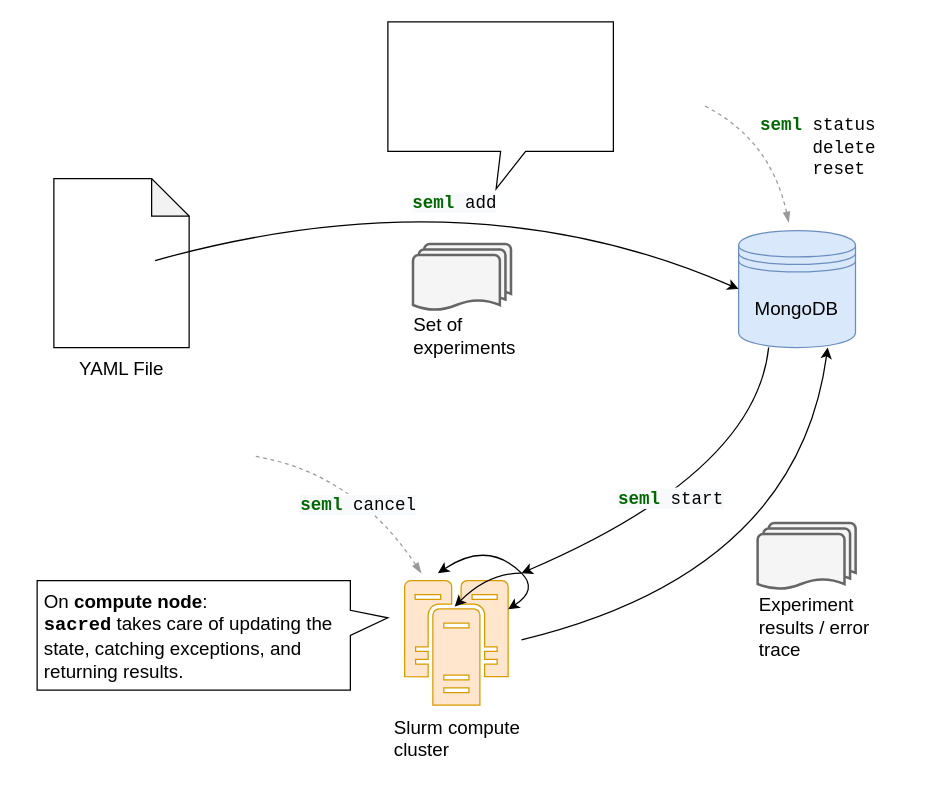
Image size: 930x794. Some labels were removed from this diagram. The shapes that lost their labels are listed below. From the top down, each one's centre as x and y in pixels, then its label:
At point (500, 105): "Checks validity of code and configs Caches source code for reproducibility".
At point (121, 262): "seml : ... slurm : ... fixed : ...".
